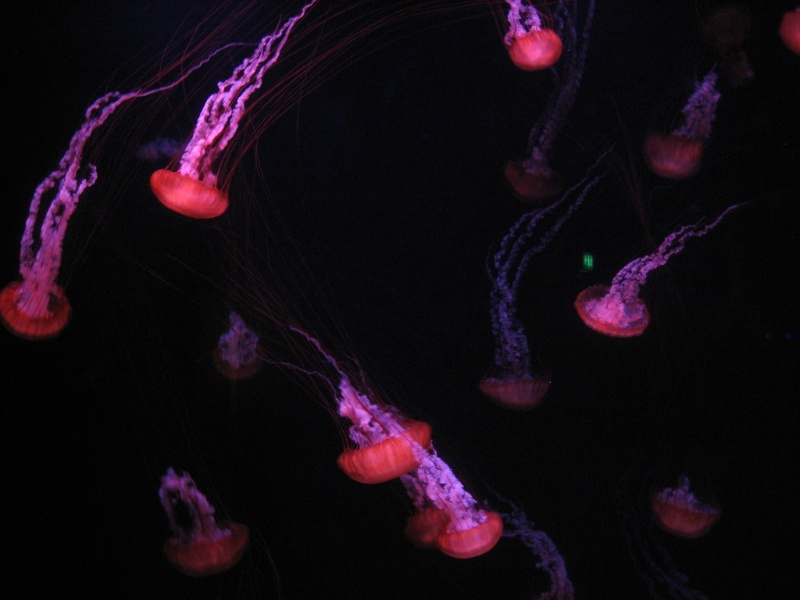Jellyfish: (0, 29, 250, 338), (147, 0, 375, 222), (484, 175, 600, 411), (273, 324, 434, 485), (576, 216, 727, 340), (377, 418, 505, 561), (153, 462, 238, 572), (643, 73, 722, 184), (505, 97, 570, 196), (649, 466, 716, 541), (498, 0, 566, 70), (216, 305, 273, 380)
